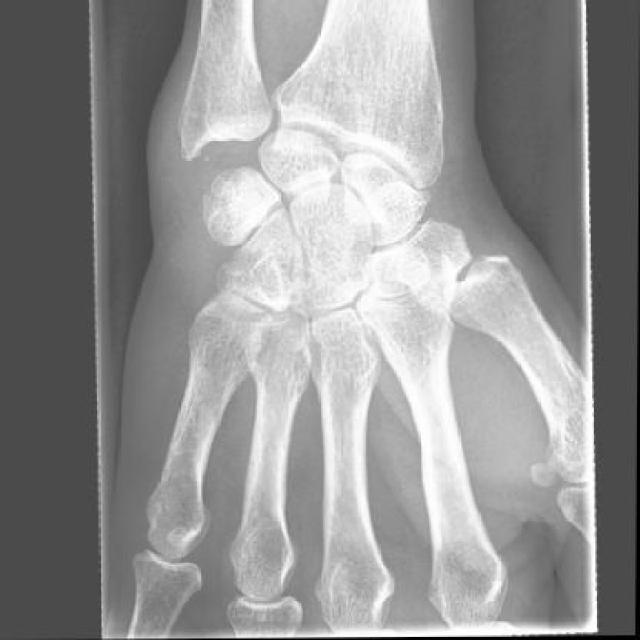Fracture: (197, 165, 255, 235)
